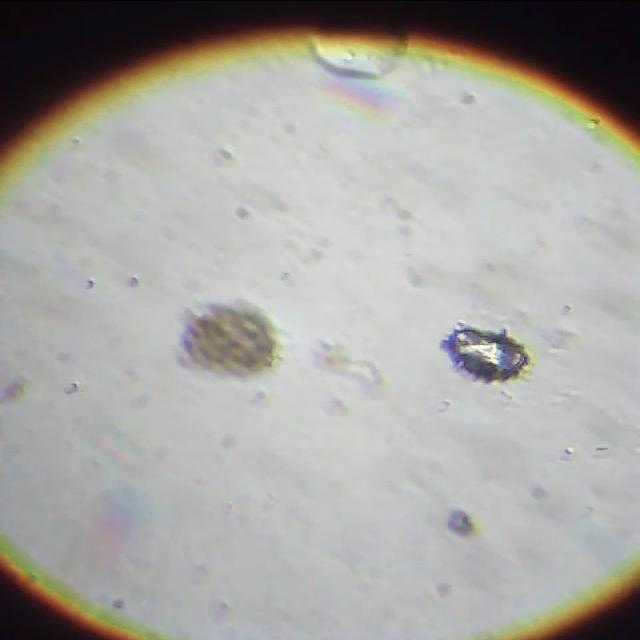alexandrium: (172, 296, 286, 376)
alexandrium minutum: (428, 318, 538, 396)
